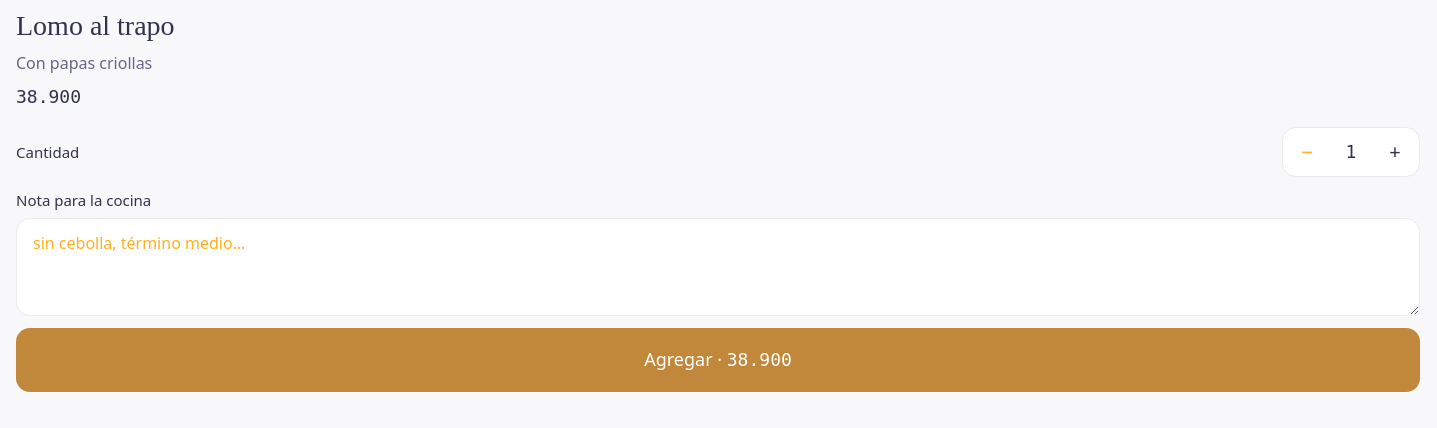
offers to add again after changing the quantity
(page scrolled)
Click the button "Agregar · 38.900" at coordinates (718, 360), box [16, 328, 1420, 392]
(page scrolled)
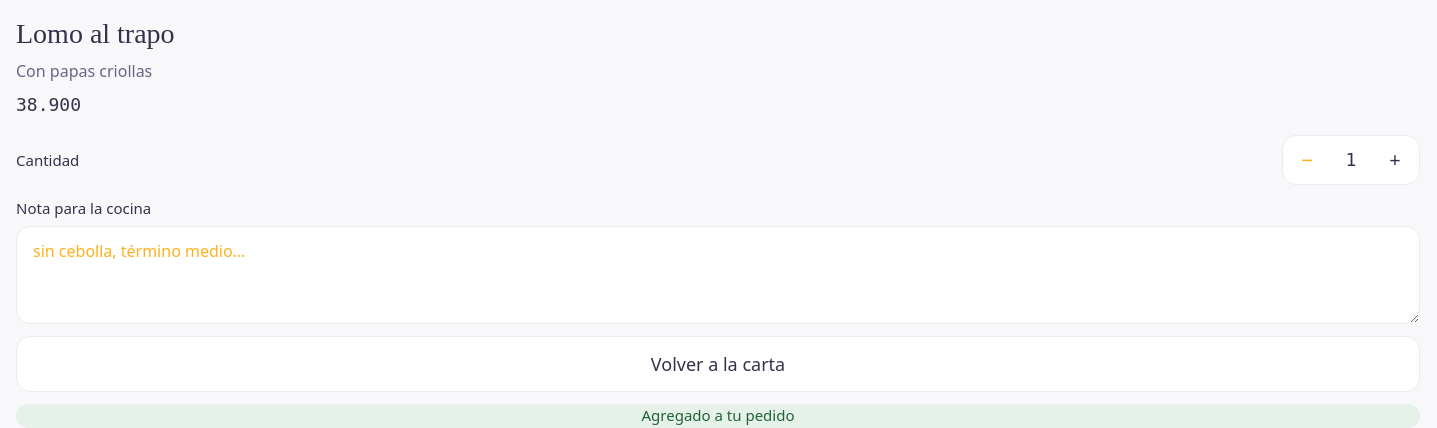
Check: the link "Volver a la carta" is shown, box [16, 336, 1420, 392]
Click the button named "Más" at coordinates (1395, 160), box [1371, 136, 1419, 184]
(page scrolled)
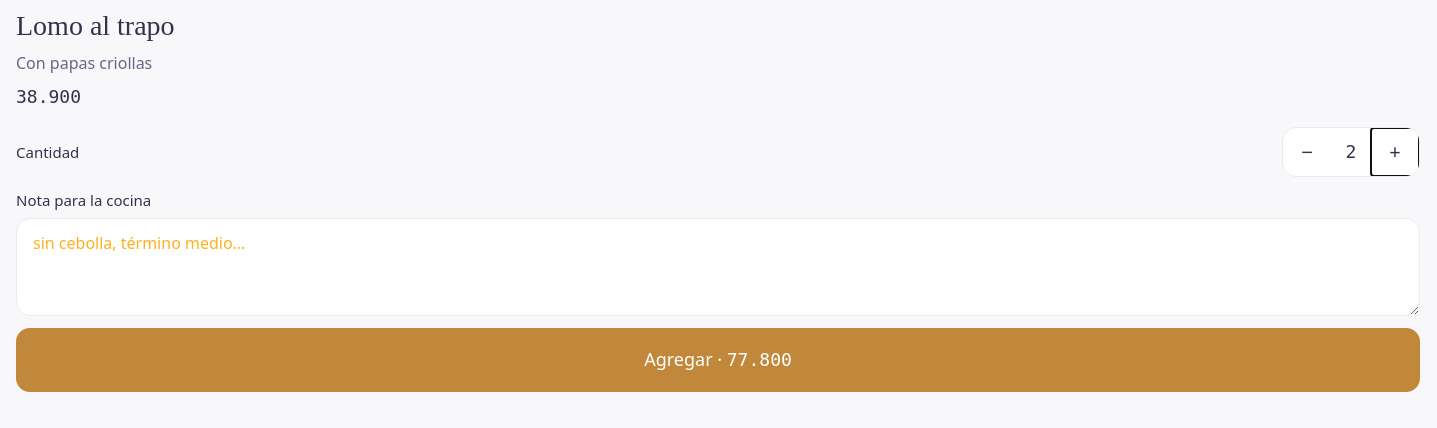
Check: the message is empty, box [16, 404, 1420, 427]
Check: the button "Agregar · 77.800" is enabled, box [16, 328, 1420, 392]
